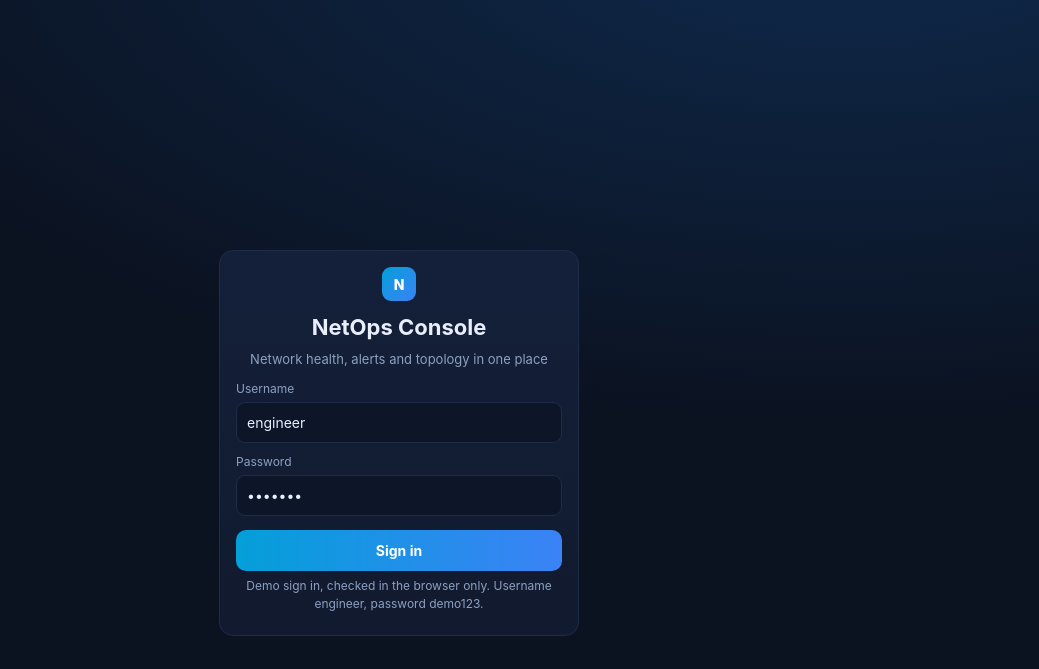
Test: App › rejects a wrong password
Type "bad" into the password field labelled "Password". click: (399, 495)
box: [236,475,562,516]
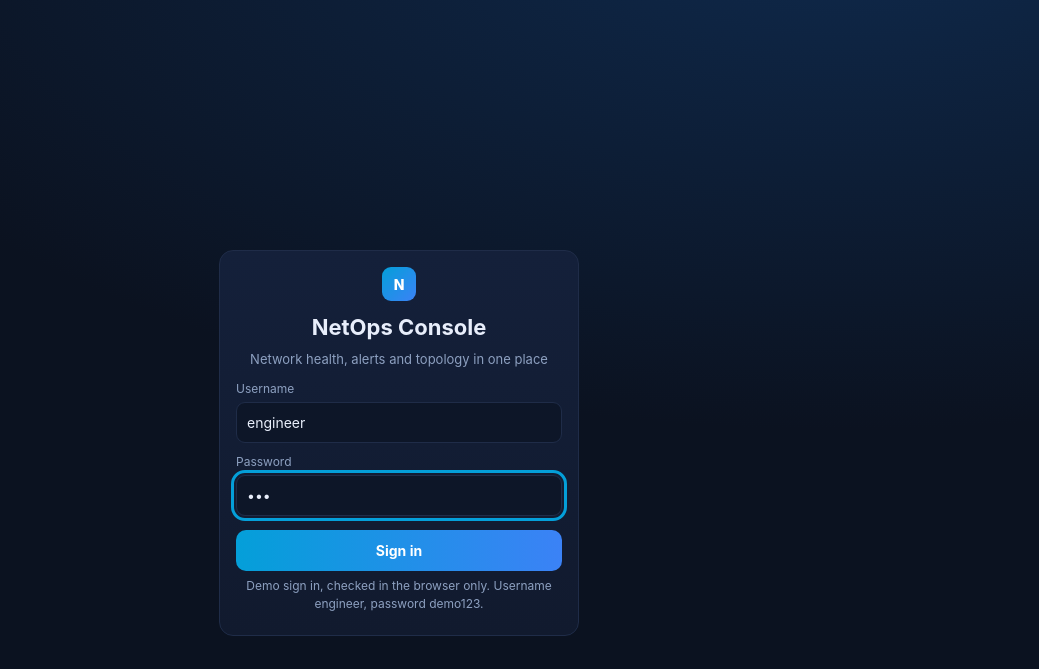
Click the button "Sign in". click: (399, 550)
box: [236,530,562,571]
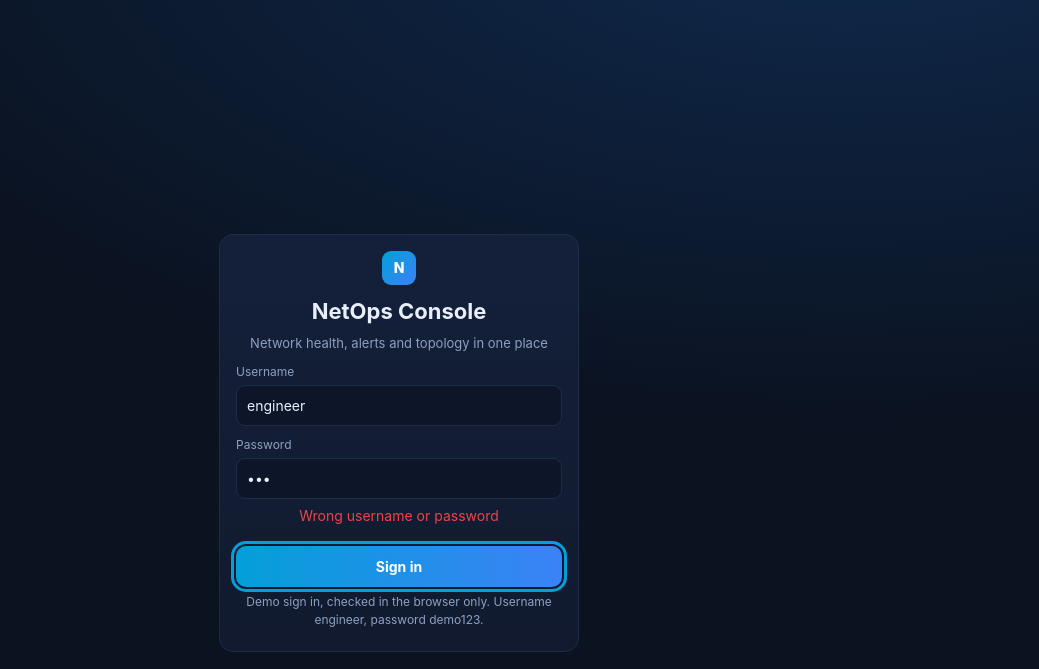
expect the message reads "Wrong username or password": met, box [299,507,499,524]
